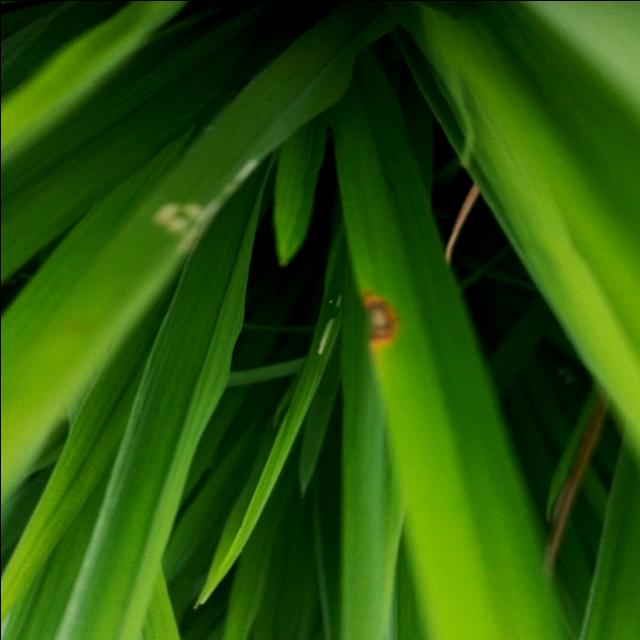Penggulung Daun: (142, 147, 267, 270)
brown spot: (354, 288, 406, 358)
